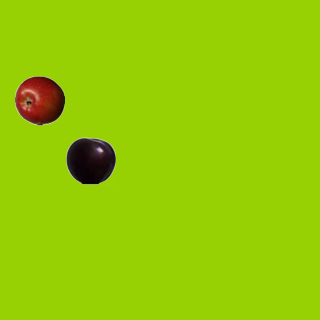Apple Braeburn: (14, 75, 64, 125)
Cherry Wax Black: (65, 135, 115, 185)
